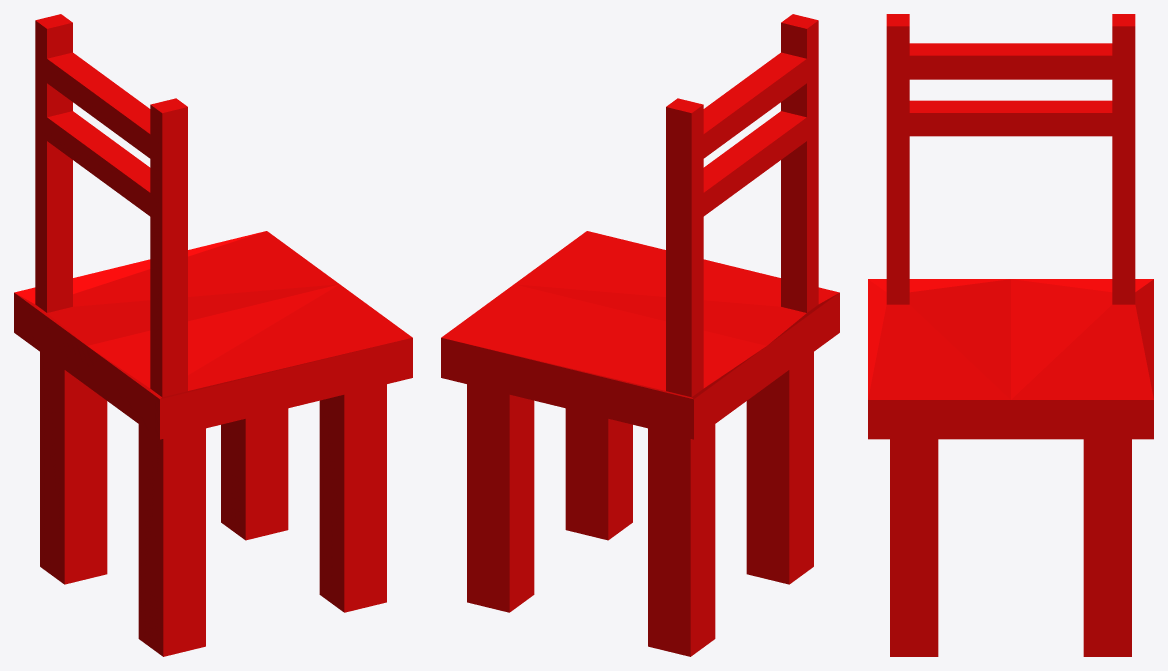
The model's file is chair.obj.
The picture shows the model from 3 angles, left to right: view 1: azimuth 30°, elevation 25°; view 2: azimuth 150°, elevation 25°; view 3: azimuth 270°, elevation 25°; orthographic projection. The views are drawn at different scales.
Parts seen in each view (by area): view 1: Cube.006_Cube.047; view 2: Cube.006_Cube.047; view 3: Cube.006_Cube.047.
Boxes of the visible parts, left/top/right/bottom form: Cube.006_Cube.047: left=14, top=14, right=412, bottom=656; Cube.006_Cube.047: left=441, top=14, right=839, bottom=656; Cube.006_Cube.047: left=868, top=14, right=1153, bottom=656.
Size of the model in its own units: 0.3056 by 0.6305 by 0.3056.
